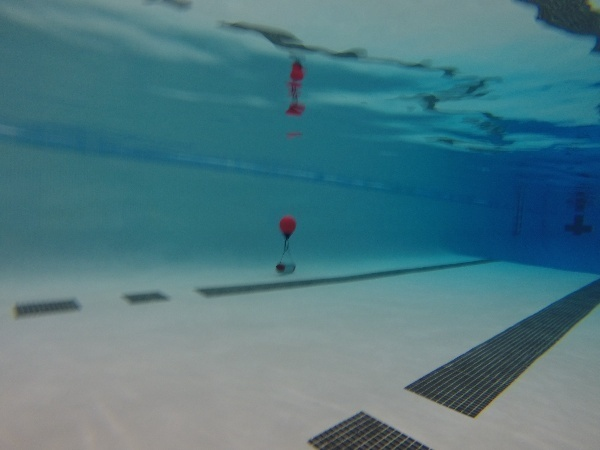buoy_red: (277, 213, 297, 241)
